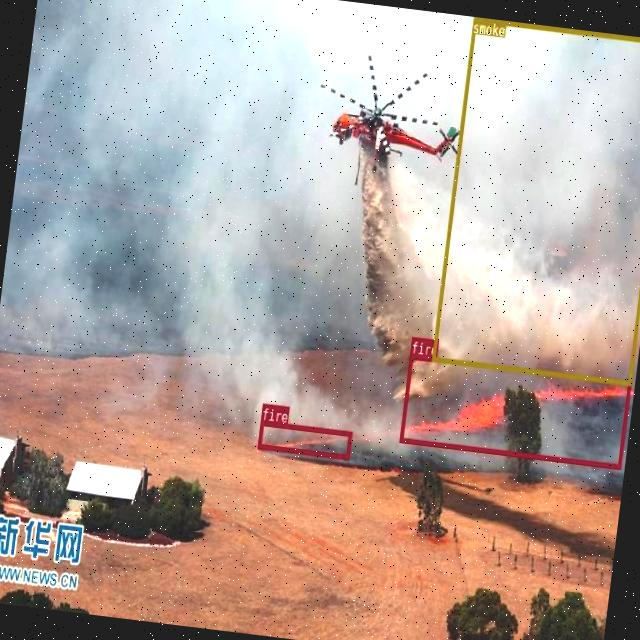fire: (398, 354, 630, 468), (256, 419, 352, 459)
smoke: (430, 16, 640, 385)
